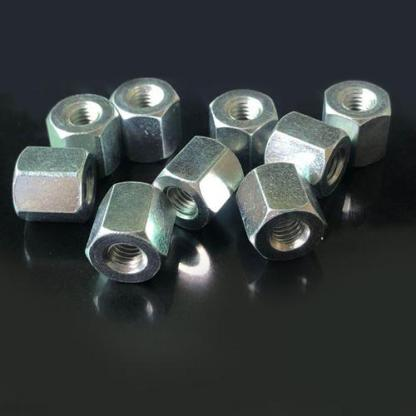FOD: (81, 176, 182, 296), (236, 157, 327, 268), (319, 74, 393, 171), (108, 74, 185, 162)
